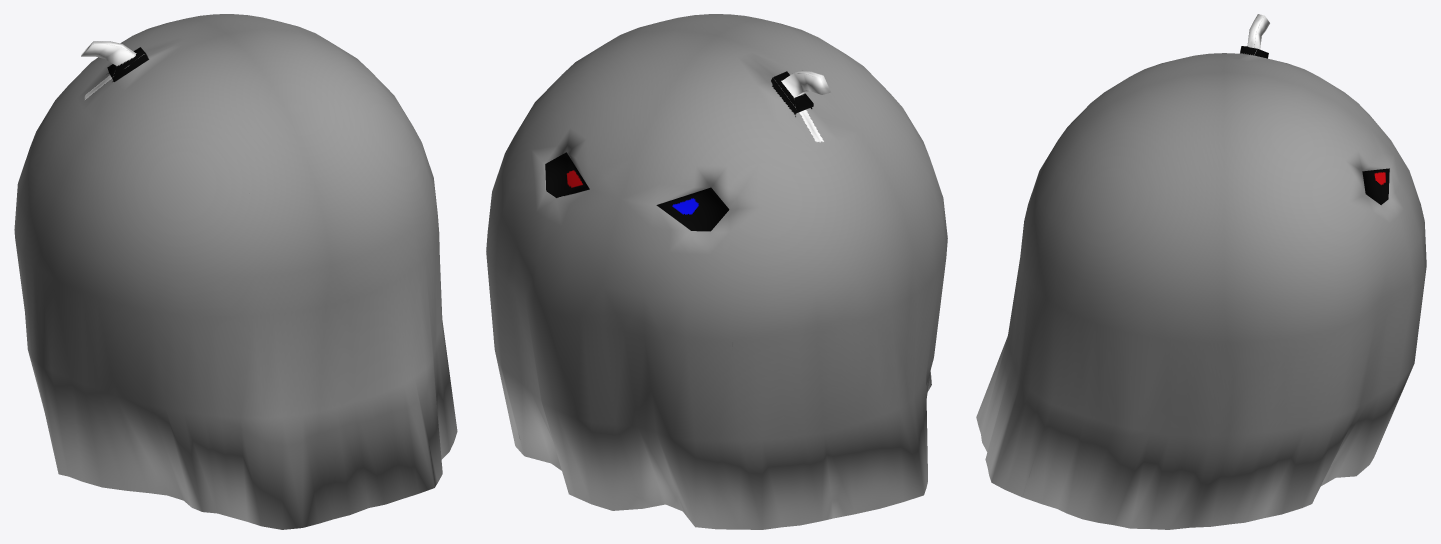
Rendered from bomb.obj.
3 renders of one model, left to right at view 1: azimuth 30°, elevation 25°; view 2: azimuth 150°, elevation 25°; view 3: azimuth 270°, elevation 25°, orthographic. The views are drawn at different scales.
Parts seen in each view (by area): view 1: Cylinder; view 2: Cylinder; view 3: Cylinder.
Part boxes in pixels (x1,y1,x2,y2): Cylinder: (14,14,457,529); Cylinder: (486,14,947,529); Cylinder: (976,14,1426,529).
Size of the model in its own units: 2 by 2.09 by 2.21.
